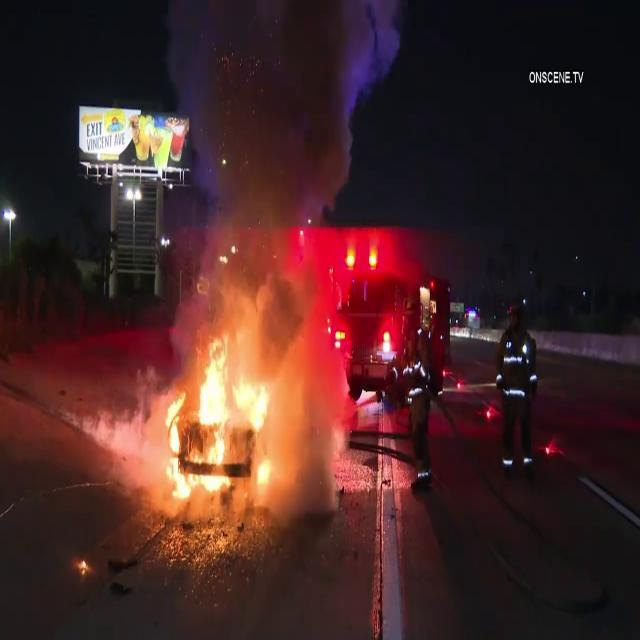Fire: (158, 344, 278, 518)
Smoke: (158, 0, 342, 364)
